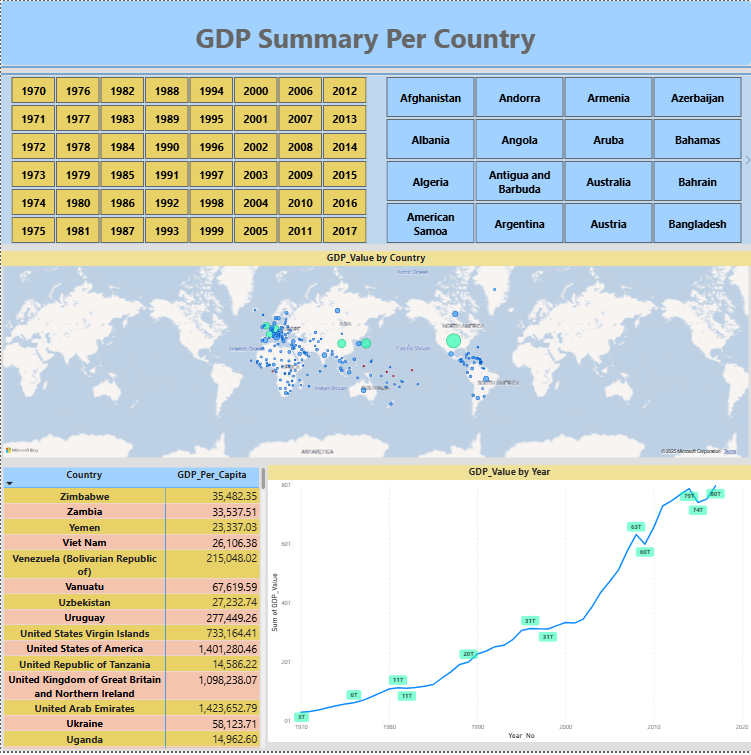

The page's visual inventory and layout, read from the dashboard file:
{"tool":"powerbi","page":{"name":"Page 1","canvas":[1500,1500],"ordinal":0},"visuals":[{"type":"shape","box":[0,0,1500,128],"z":0},{"type":"textbox","box":[0,30,1472,98],"z":1000},{"type":"map","title":"GDP_Value by Country","fields":{"Category":["GDP_Excel_Input.Country"],"Size":["Sum(GDP_Excel_Input.GDP_Value)"]},"box":[0,500,1500,418],"z":2000},{"type":"lineChart","title":"GDP_Value by Year","fields":{"Category":["GDP_Excel_Input.Year_No"],"Y":["Sum(GDP_Excel_Input.GDP_Value)"]},"box":[534,928,966,554],"z":3000},{"type":"shape","box":[0,128,1500,36],"z":4000},{"type":"shape","box":[0,114,1500,36],"z":5000},{"type":"pivotTable","fields":{"Rows":["GDP_Excel_Input.Country"],"Values":["Sum(GDP_Excel_Input.GDP_Per_Capita)"]},"box":[0,928,534,572],"z":6000},{"type":"slicer","fields":{"Values":["GDP_Excel_Input.Year_No"]},"box":[0,150,750,336],"z":6001},{"type":"slicer","fields":{"Values":["GDP_Excel_Input.Country"]},"box":[750,150,750,336],"z":6002}]}

Visuals, with their boxes in screenshot pixels (x1, y1, x2, y2), scaled from the page's 1500x1500 canvas onto the 751x755 screenshot:
shape: box=[0, 0, 750, 64]
textbox: box=[0, 15, 737, 64]
"GDP_Value by Country" map: box=[0, 252, 750, 462]
"GDP_Value by Year" lineChart: box=[267, 467, 750, 746]
shape: box=[0, 64, 750, 83]
shape: box=[0, 57, 750, 76]
pivotTable - GDP_Excel_Input.Country x Sum(GDP_Excel_Input.GDP_Per_Capita): box=[0, 467, 267, 754]
slicer - GDP_Excel_Input.Year_No: box=[0, 76, 376, 245]
slicer - GDP_Excel_Input.Country: box=[376, 76, 750, 245]
